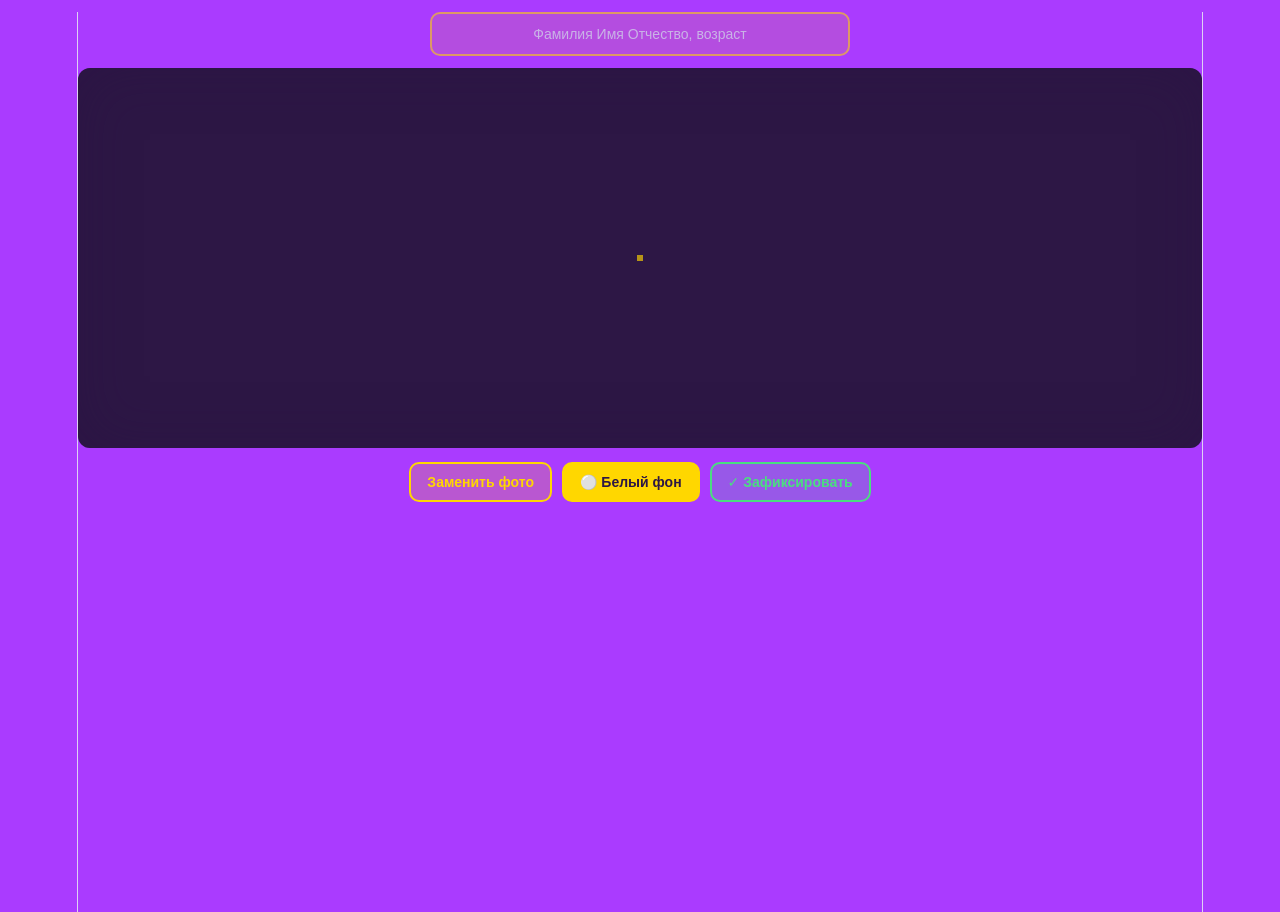
RuneLayout — белый фон вместо фото › сохранённый белый фон работает и без фото: переключатель вернёт в пустое состояние
Выключение возвращает в пустое состояние, где кнопка снова доступна
Click the button "⚪ Белый фон": (631, 482) [562,462,700,502]
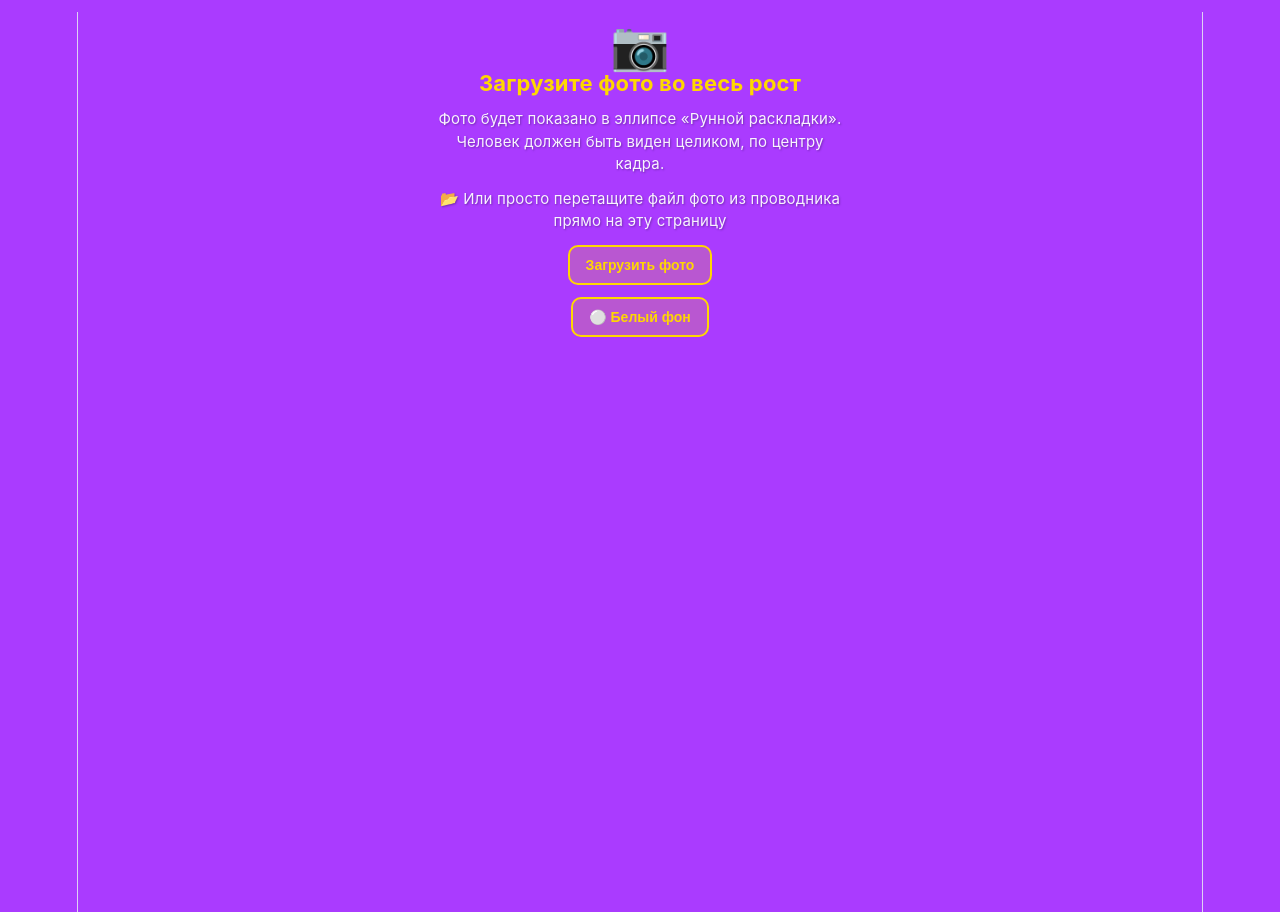
Expected: the heading "Загрузите фото во весь рост" is shown, [479,70,801,96]
